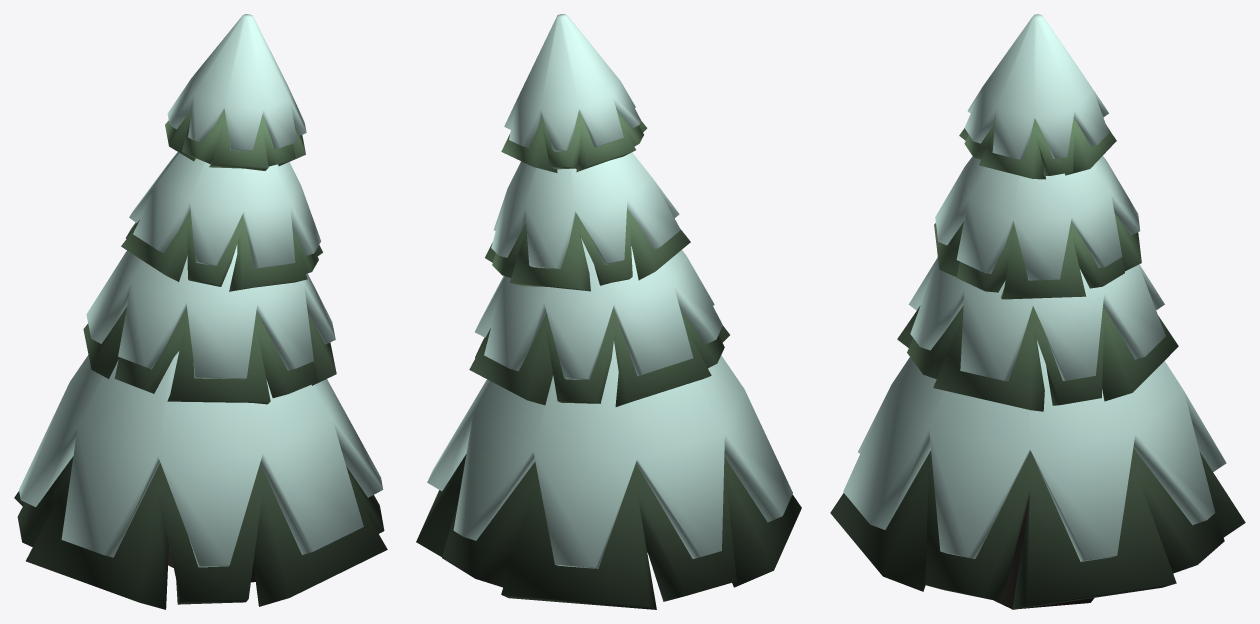
Rendered from tree1.glb.
3 views of the same model, side by side, from view 1: azimuth 30°, elevation 25°; view 2: azimuth 150°, elevation 25°; view 3: azimuth 270°, elevation 25° (orthographic). The views are drawn at different scales.
Parts seen in each view (by area): view 1: Cylinder.008; view 2: Cylinder.008; view 3: Cylinder.008.
Part boxes in pixels (x1,y1,x2,y2): Cylinder.008: (14, 14, 387, 609); Cylinder.008: (416, 14, 801, 609); Cylinder.008: (830, 14, 1245, 609).
Bounding box in the file's own units: 2.22 × 3.35 × 2.22.
Materials: 1 (1 with a texture image).
